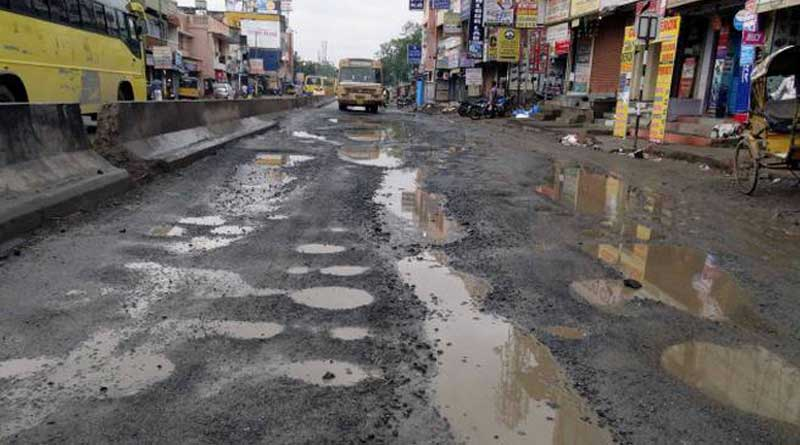pothole: (384, 248, 599, 443), (567, 245, 765, 326), (633, 348, 794, 435), (339, 137, 467, 245), (70, 303, 170, 413), (528, 148, 662, 229), (168, 200, 244, 256), (246, 140, 304, 171)
